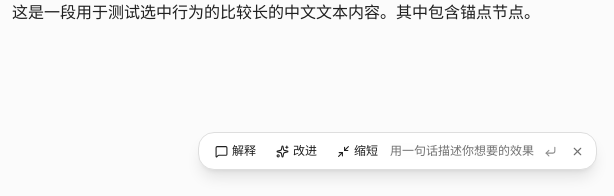
it: 选中文字 AI 操作条（B1） › 权限失败（403/无权限）→ toast「当前账号无此权限」+ 接口按钮置灰，解释按钮仍可用
The image size is (614, 196).
Click the button "改进": coordinates (296, 151) [268, 139, 325, 163]
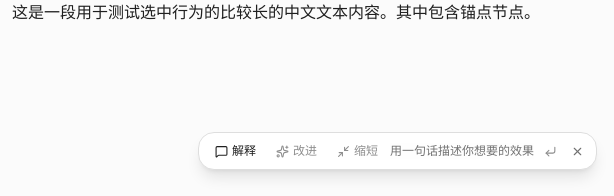
Expected: the button "解释" is enabled, [207, 139, 264, 163]
Expected: the button "改进" is disabled, [268, 139, 325, 163]
Expected: the button "缩短" is disabled, [329, 139, 386, 163]
